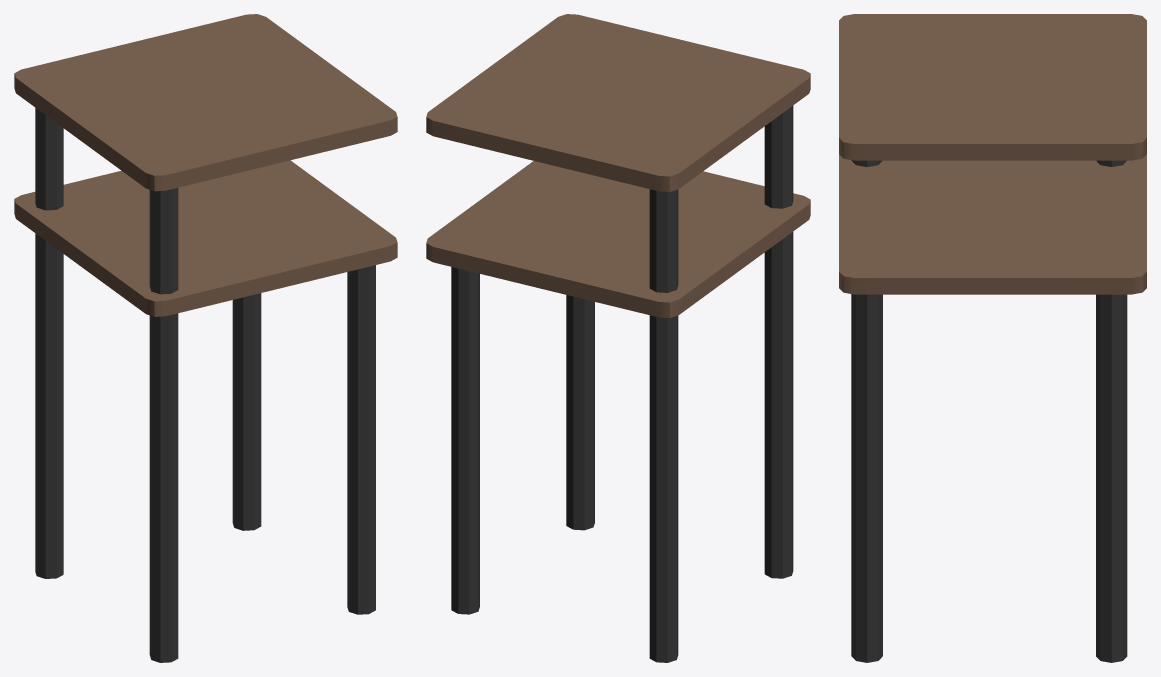
The model's file is Table 1.fbx.
3 renders of one model, left to right at view 1: azimuth 30°, elevation 25°; view 2: azimuth 150°, elevation 25°; view 3: azimuth 270°, elevation 25°, orthographic. The views are drawn at different scales.
Parts seen in each view (by area): view 1: Table_group3_pCube2; view 2: Table_group3_pCube2; view 3: Table_group3_pCube2.
Boxes of the visible parts, x1,y1,x2,y2 form: Table_group3_pCube2: (14,14,397,662); Table_group3_pCube2: (426,14,810,662); Table_group3_pCube2: (839,14,1146,662).
Bounding box in the file's own units: 1.33 × 2.5 × 1.33.
